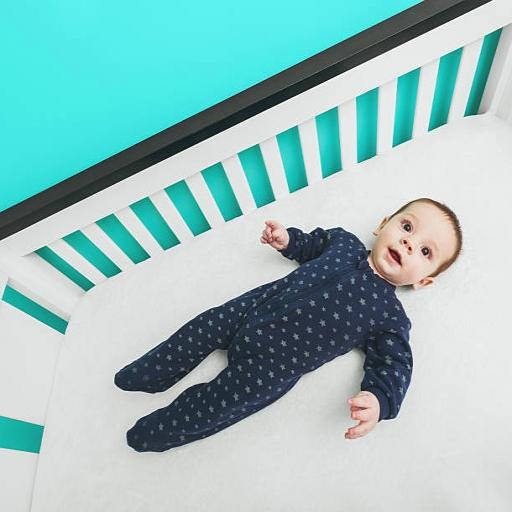baby: (115, 198, 461, 450)
crib: (0, 0, 511, 511)
